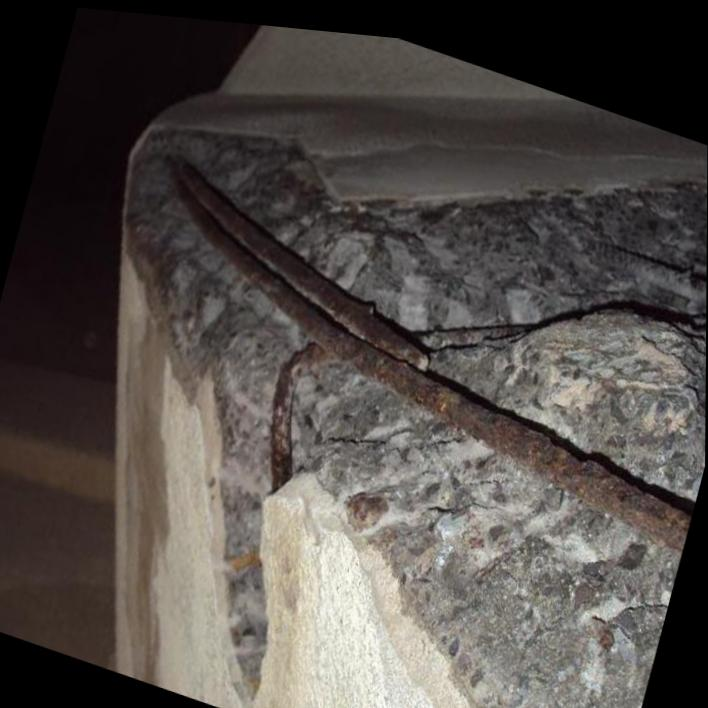damage: (122, 123, 707, 708)
